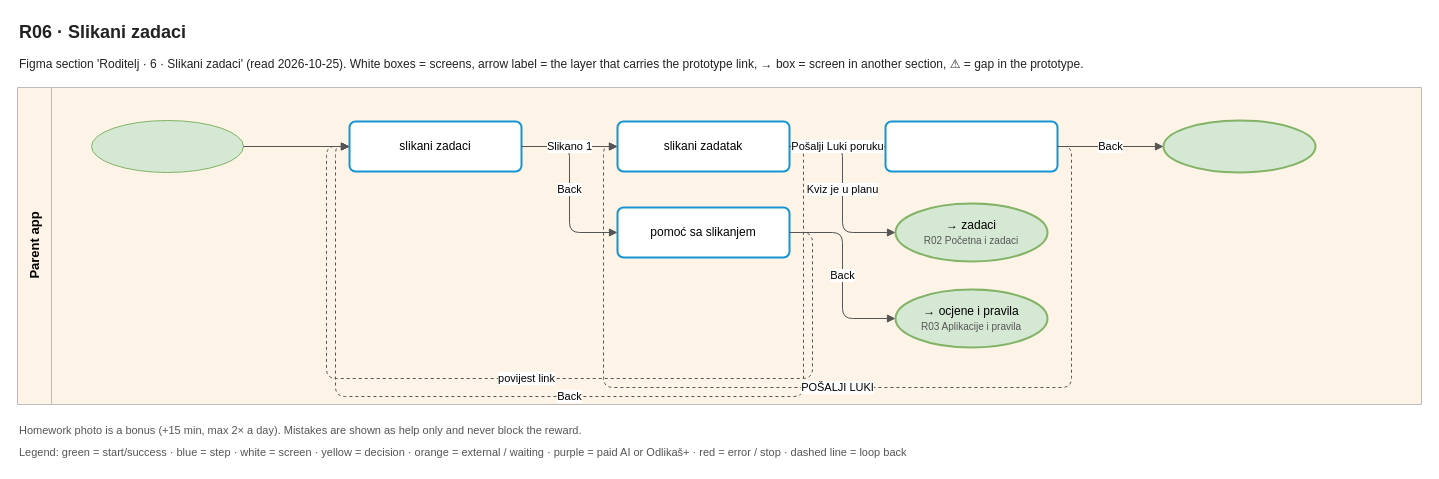
This 1439x479 diagram has some shape labels left out. Each missing label, with the box of its shape:
poruka Luki: (884, 120, 1058, 172)
Start: (90, 120, 244, 172)
← Back: (1162, 119, 1316, 173)
